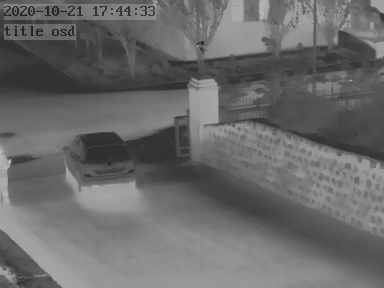vehicle: (62, 131, 137, 191)
